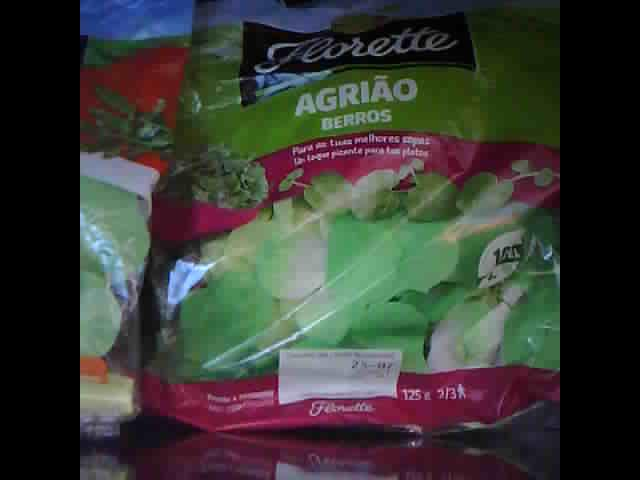florette: (135, 4, 560, 442), (80, 1, 194, 431)
